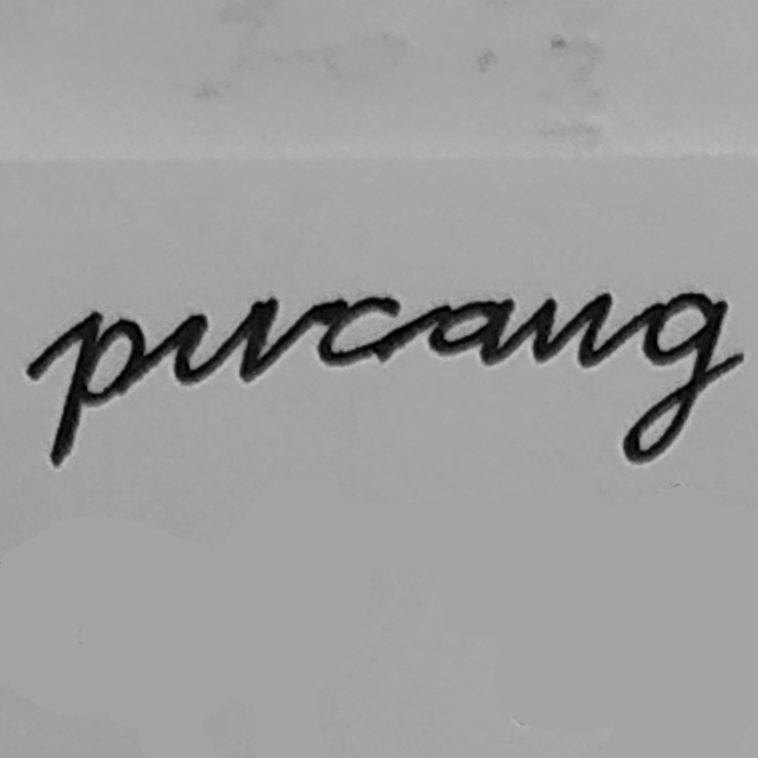a: (426, 291, 520, 371)
c: (310, 284, 409, 375)
g: (619, 287, 731, 469)
n: (526, 282, 618, 371)
p: (27, 305, 155, 474)
u: (166, 289, 282, 392)
